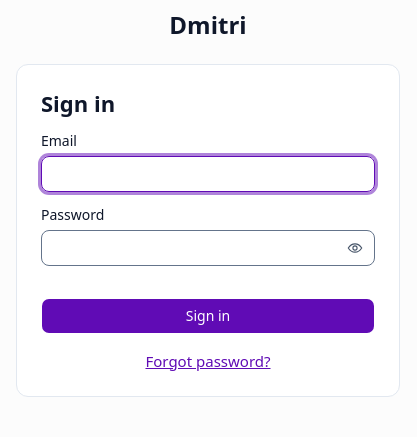
Scenario: Login › shows the can't-reach-the-server copy on a true network error, not the credential string (AC 4)
The image size is (417, 437).
Type "ana@northwind.example" into the field labelled "Email". click: (208, 174)
box: x1=41 y1=156 x2=375 y2=192
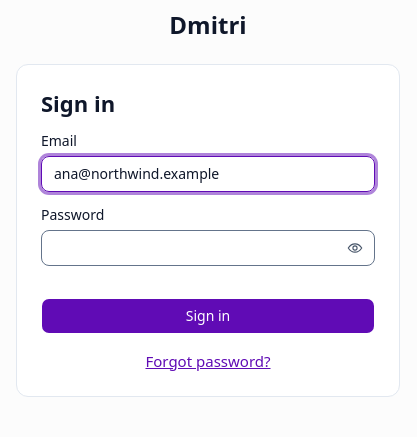
Type "correct horse battery staple" into the password field labelled "Password". click: (208, 248)
box: x1=41 y1=230 x2=375 y2=266
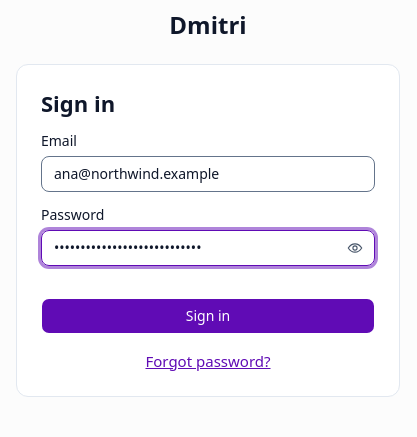
Click the button with test id "login-submit". click: (208, 316)
box: x1=41 y1=298 x2=375 y2=334
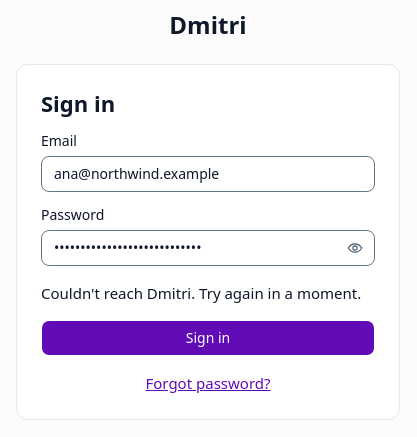
Expected: the text "Couldn't reach Dmitri. Try again in a moment." is shown, x1=41 y1=282 x2=375 y2=304
